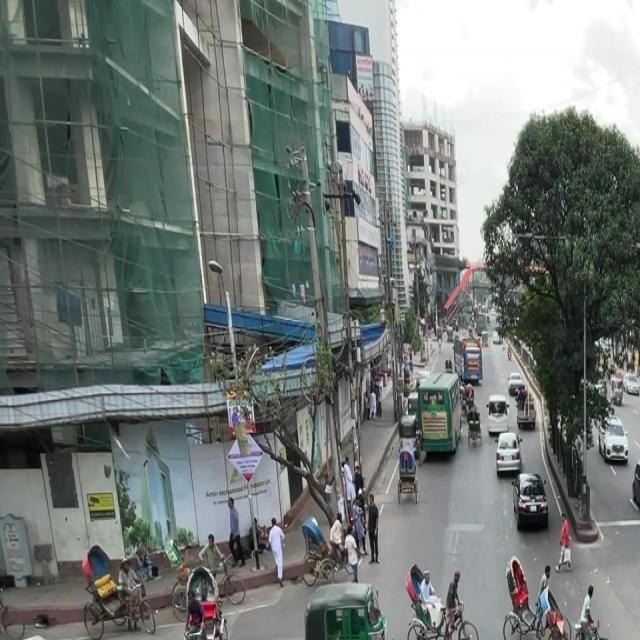car: (510, 462, 553, 536), (596, 415, 633, 466), (491, 429, 524, 485), (484, 385, 508, 422), (516, 384, 538, 424), (628, 454, 640, 520)
rickshaw: (298, 577, 394, 640)
